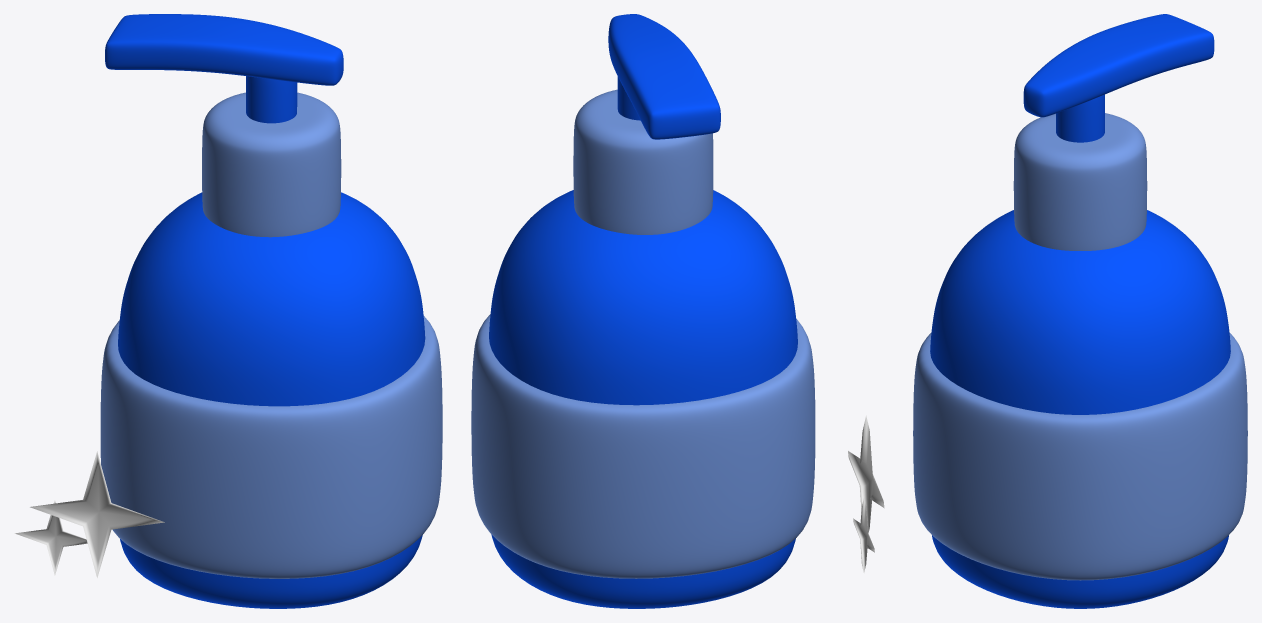
The model's file is 18. hand sanitizer bottle.gltf.
3 views of the same model, side by side, from view 1: azimuth 30°, elevation 25°; view 2: azimuth 150°, elevation 25°; view 3: azimuth 270°, elevation 25° (orthographic). The views are drawn at different scales.
Visible parts, largest first — view 1: Cube.025, Cube.019, Cylinder.016, Plane.059, Plane.058, Cylinder.017; view 2: Cube.025, Cube.019, Cylinder.016, Plane.059, Plane.058; view 3: Cube.025, Cube.019, Cylinder.016, Plane.059, Cylinder.017.
Part boxes in pixels (x1,y1,x2,y2): Cube.025: [100, 316, 442, 578]; Cube.019: [118, 192, 425, 608]; Cylinder.016: [202, 92, 341, 237]; Plane.059: [105, 14, 343, 85]; Plane.058: [15, 451, 164, 577]; Cylinder.017: [246, 76, 297, 123]; Cube.025: [471, 314, 815, 578]; Cube.019: [489, 190, 797, 608]; Cylinder.016: [573, 89, 713, 234]; Plane.059: [608, 14, 720, 139]; Plane.058: [848, 415, 884, 572]; Cube.025: [913, 333, 1247, 580]; Cube.019: [930, 210, 1230, 608]; Cylinder.016: [1013, 113, 1147, 250]; Plane.059: [1023, 14, 1214, 117]; Cylinder.017: [1056, 94, 1104, 142].
Bounding box in the file's own units: 3.69 × 4.65 × 2.82.
